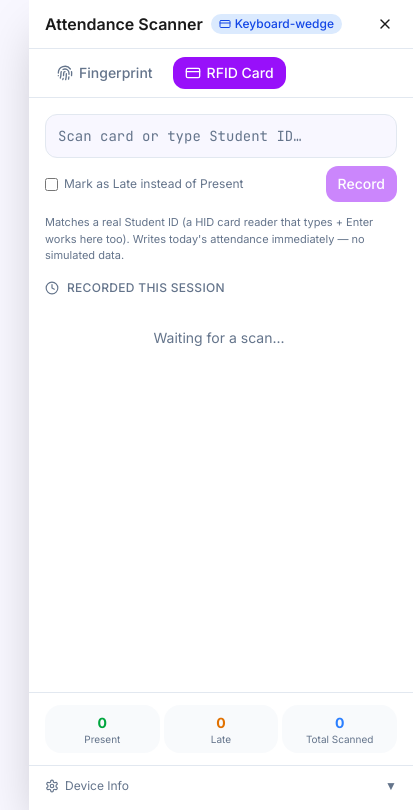
BiometricAttendance › updates the Present/Late/Total stat counters as scans come in
The width and height of the screenshot is (413, 810).
Type "STU-1" into the field with placeholder "Scan card or type Student ID…" at (221, 136), box [45,114,397,158]
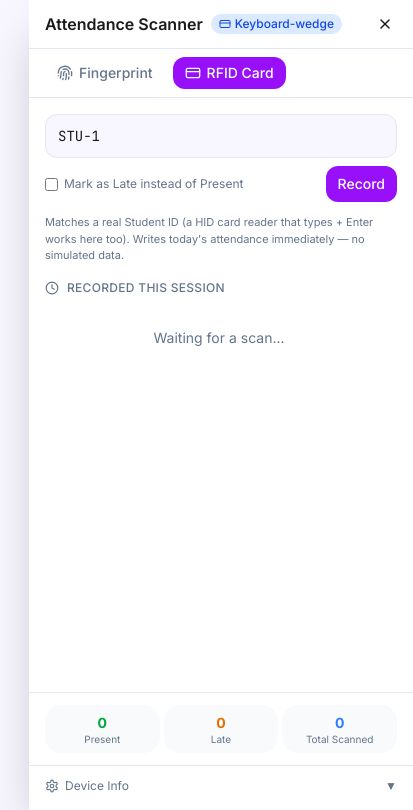
Click the button "Record" at (361, 184), box [326,166,397,202]
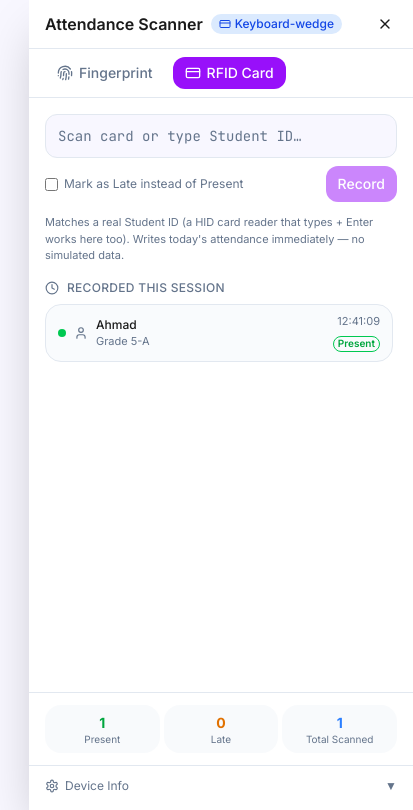
Check: the text "Ahmad" is shown, box [96,316,137,332]
Check: the text "Present" reads "1 Present", box [45,704,160,753]
